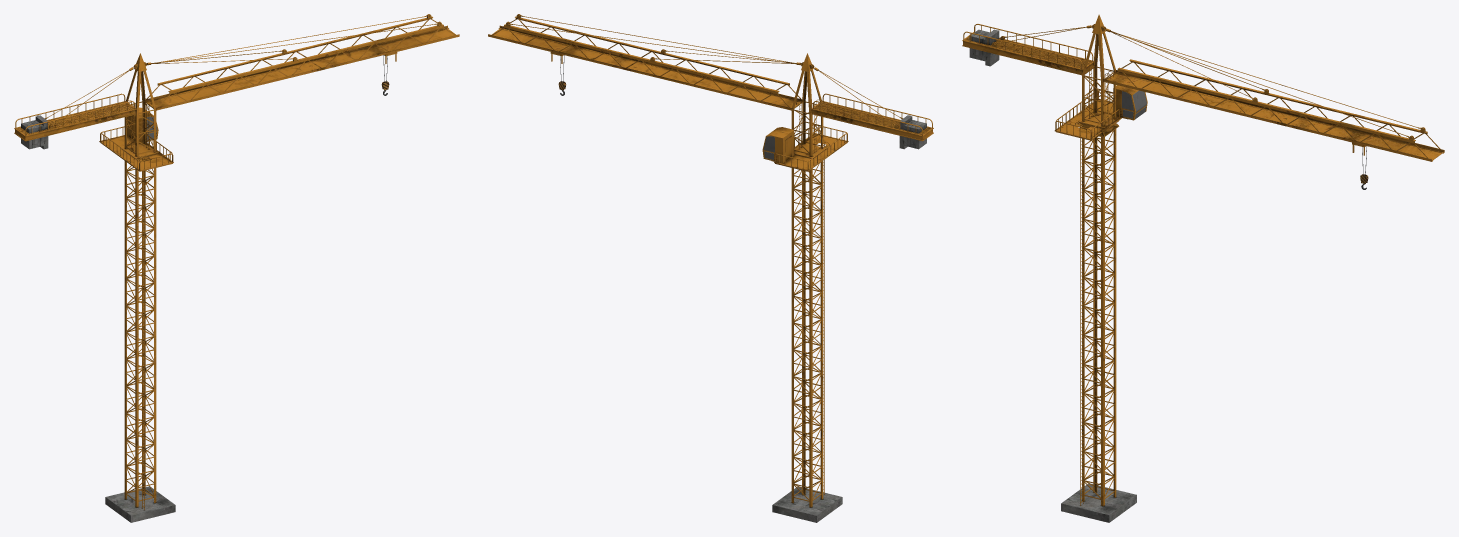
File: grua.glb
3 views of the same model, side by side, from view 1: azimuth 30°, elevation 25°; view 2: azimuth 150°, elevation 25°; view 3: azimuth 330°, elevation 25° (orthographic). The views are drawn at different scales.
Visible parts, largest first — view 1: Cube.052_UV_0, Cube.060_CONCRETE_0, Cube.056_frame_0; view 2: Cube.052_UV_0, Cube.060_CONCRETE_0, Cube.056_frame_0; view 3: Cube.052_UV_0, Cube.060_CONCRETE_0, Cube.056_frame_0, Slice.005_GLASS_0.
Part boxes in pixels (x1=…): Cube.052_UV_0: x1=14, y1=14, x2=459, y2=510; Cube.060_CONCRETE_0: x1=21, y1=115, x2=175, y2=522; Cube.056_frame_0: x1=16, y1=101, x2=134, y2=134; Cube.052_UV_0: x1=488, y1=14, x2=933, y2=507; Cube.060_CONCRETE_0: x1=772, y1=115, x2=926, y2=522; Cube.056_frame_0: x1=814, y1=101, x2=931, y2=134; Cube.052_UV_0: x1=962, y1=14, x2=1444, y2=506; Cube.060_CONCRETE_0: x1=969, y1=29, x2=1136, y2=522; Cube.056_frame_0: x1=965, y1=36, x2=1092, y2=68; Slice.005_GLASS_0: x1=1122, y1=90, x2=1146, y2=119.
Size of the model in its own units: 51.5 by 51.61 by 8.28.
7 materials, 7 textured.
